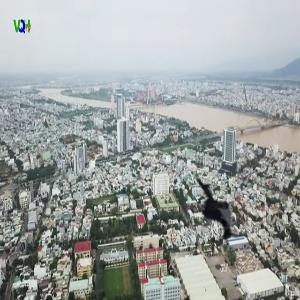drone: (175, 170, 260, 255)
